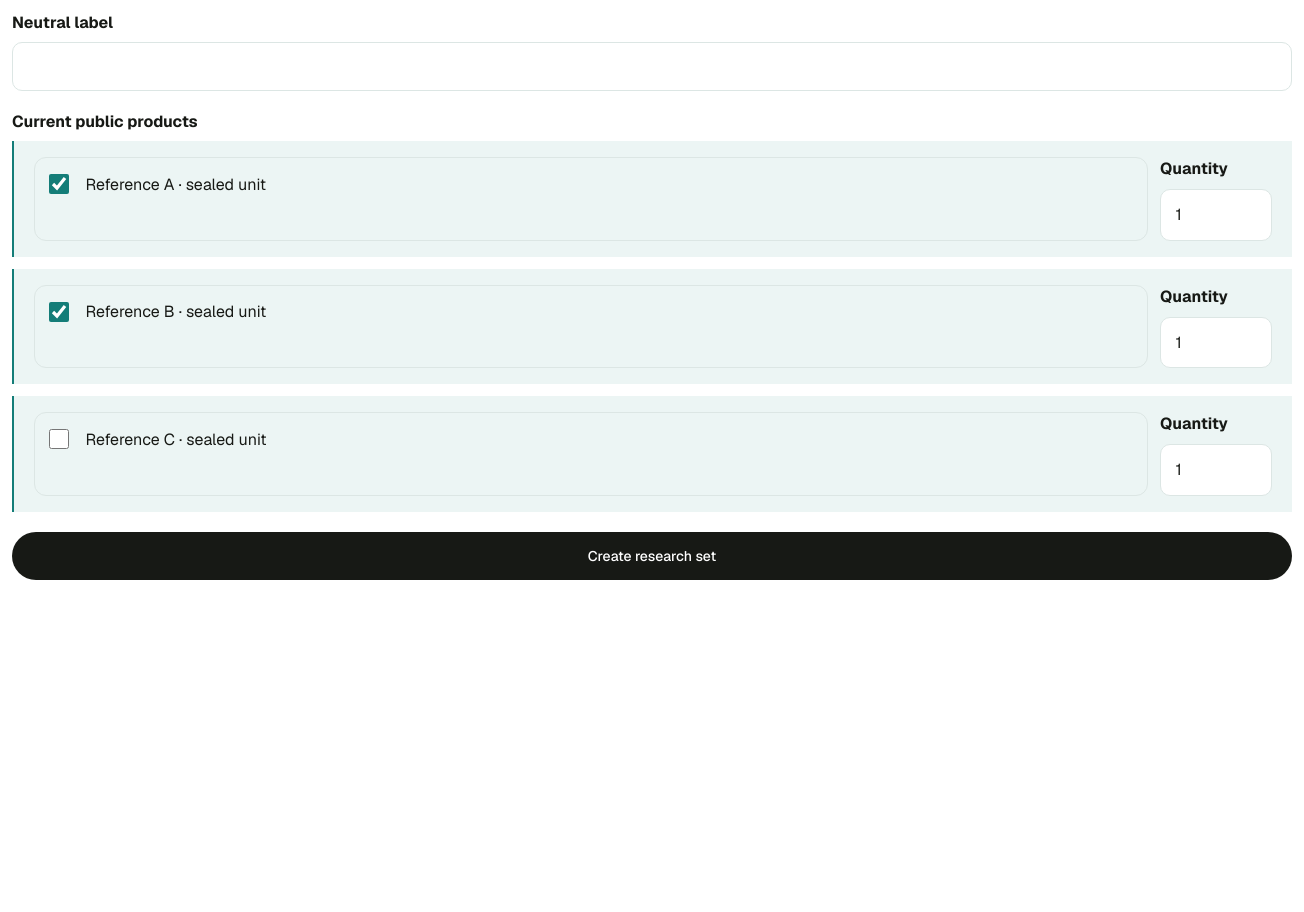
SharedSetBuilder › associates the selection error summary and persistent quantity labels
The image size is (1304, 912).
Expected: the number field named "Reference A quantity" is shown, [1160, 189, 1272, 241]
Click the checkbox labelled "Reference B · sealed unit" at (59, 312), box [49, 302, 69, 322]
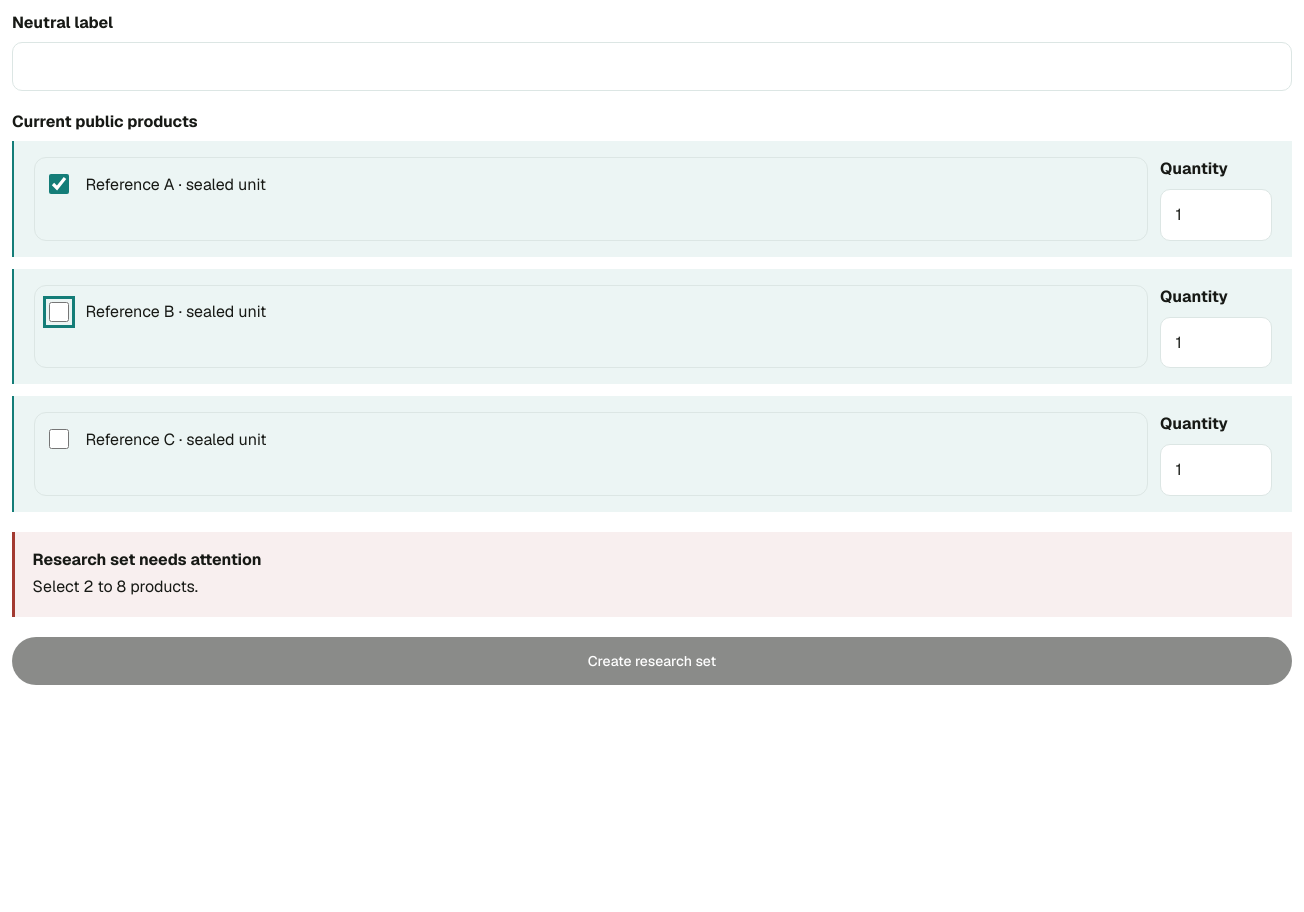
Expected: the message shows "Research set needs attention", [33, 549, 262, 570]
Expected: the message shows "Select 2 to 8 products.", [33, 576, 198, 597]
